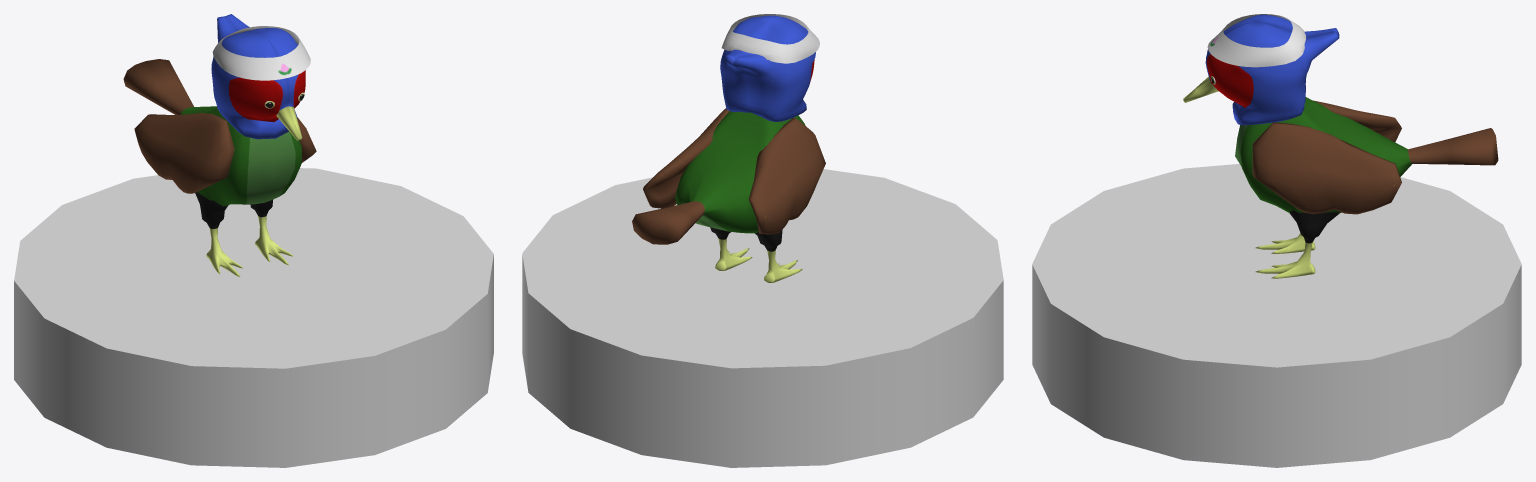
Rendered from kiji.fbx.
The picture shows the model from 3 angles, left to right: view 1: azimuth 30°, elevation 25°; view 2: azimuth 150°, elevation 25°; view 3: azimuth 270°, elevation 25°; orthographic projection.
Visible parts, largest first — view 1: base.001, kiji; view 2: base.001, kiji; view 3: base.001, kiji.
Boxes of the visible parts, <box> form: base.001: <box>14,168,493,467</box>; kiji: <box>123,14,316,276</box>; base.001: <box>522,169,1003,467</box>; kiji: <box>632,14,825,282</box>; base.001: <box>1032,164,1521,467</box>; kiji: <box>1183,14,1498,278</box>.
Size of the model in its own units: 100 by 77.22 by 100.
Materials: 1 (1 with a texture image).
